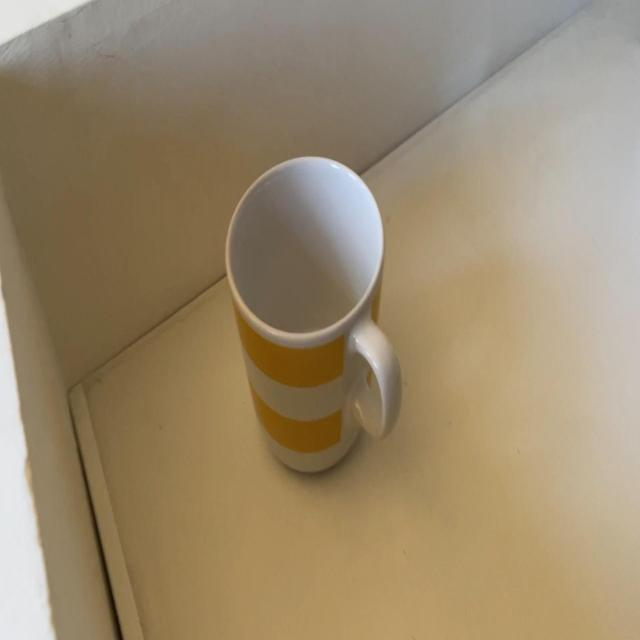cup: (223, 161, 405, 475)
